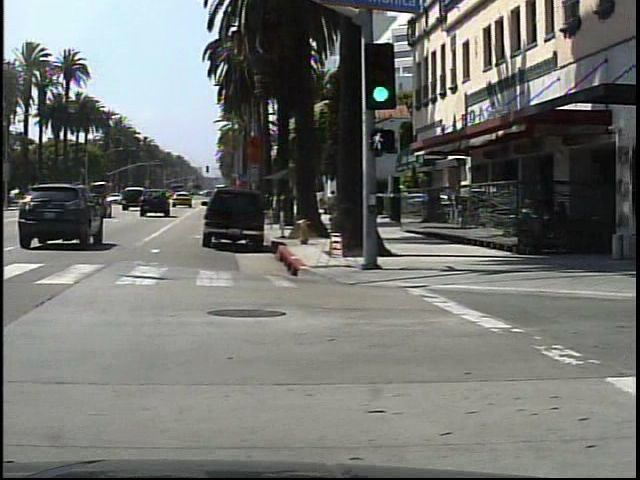person: (327, 184, 340, 226)
